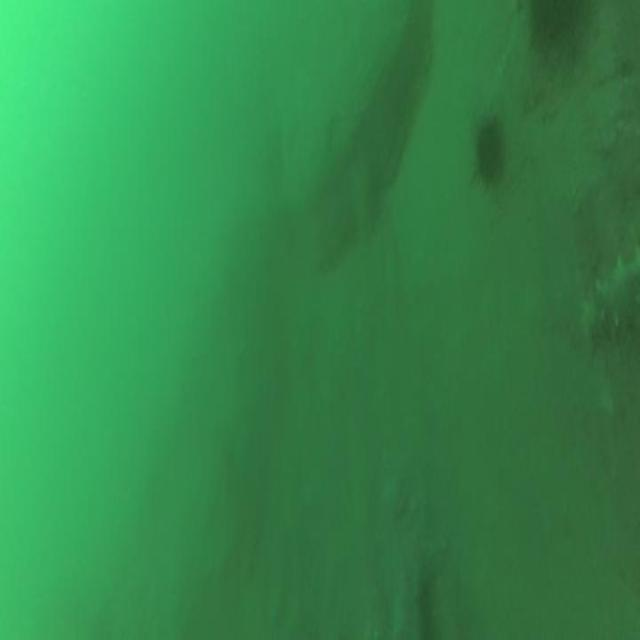echinus: (519, 3, 601, 73), (466, 104, 510, 199)
holothurian: (578, 247, 640, 346)
